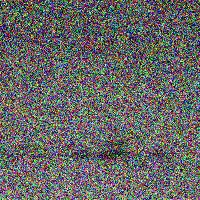inclusion: (0, 128, 134, 165), (146, 145, 175, 163)
